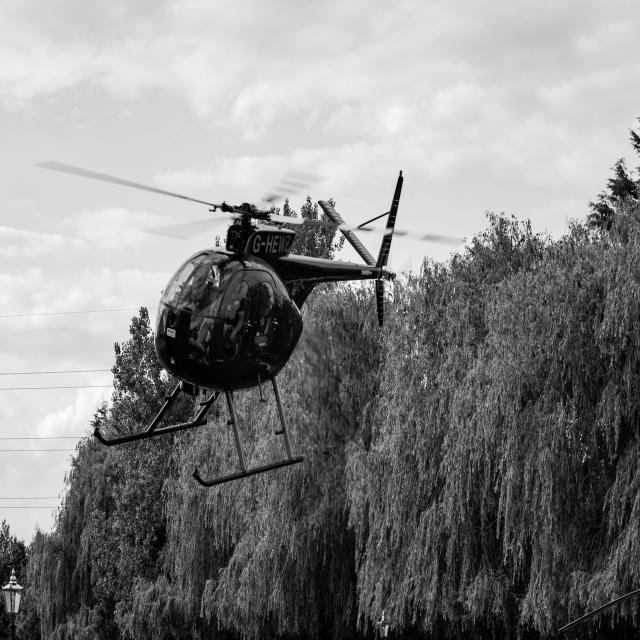helicopter: (40, 156, 447, 485)
